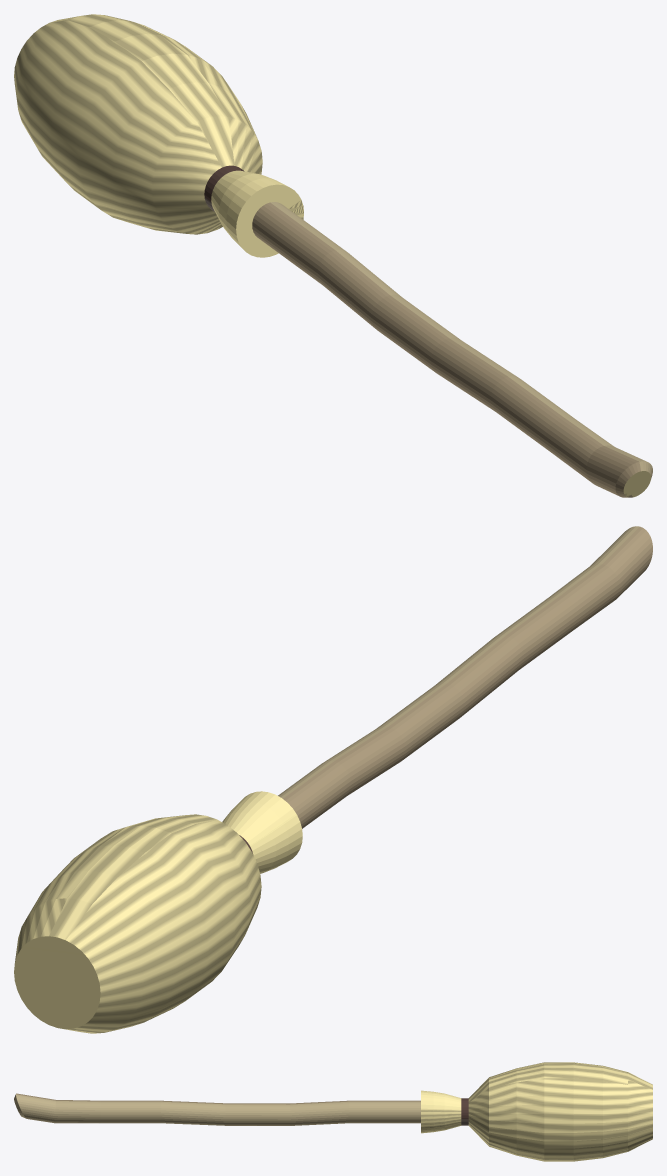
The model's file is broom.glb.
The picture shows the model from 3 angles, top to bottom: view 1: azimuth 30°, elevation 25°; view 2: azimuth 150°, elevation 25°; view 3: azimuth 270°, elevation 25°; orthographic projection. The views are drawn at different scales.
Parts seen in each view (by area): view 1: Cylinder; view 2: Cylinder; view 3: Cylinder.
Part boxes in pixels (box(x1,y1,x2,y2)): Cylinder: box(14, 14, 652, 497); Cylinder: box(14, 526, 652, 1033); Cylinder: box(14, 1062, 652, 1161).
Bounding box in the file's own units: 0.6077 × 0.6077 × 3.9.
1 material, 1 textured.
